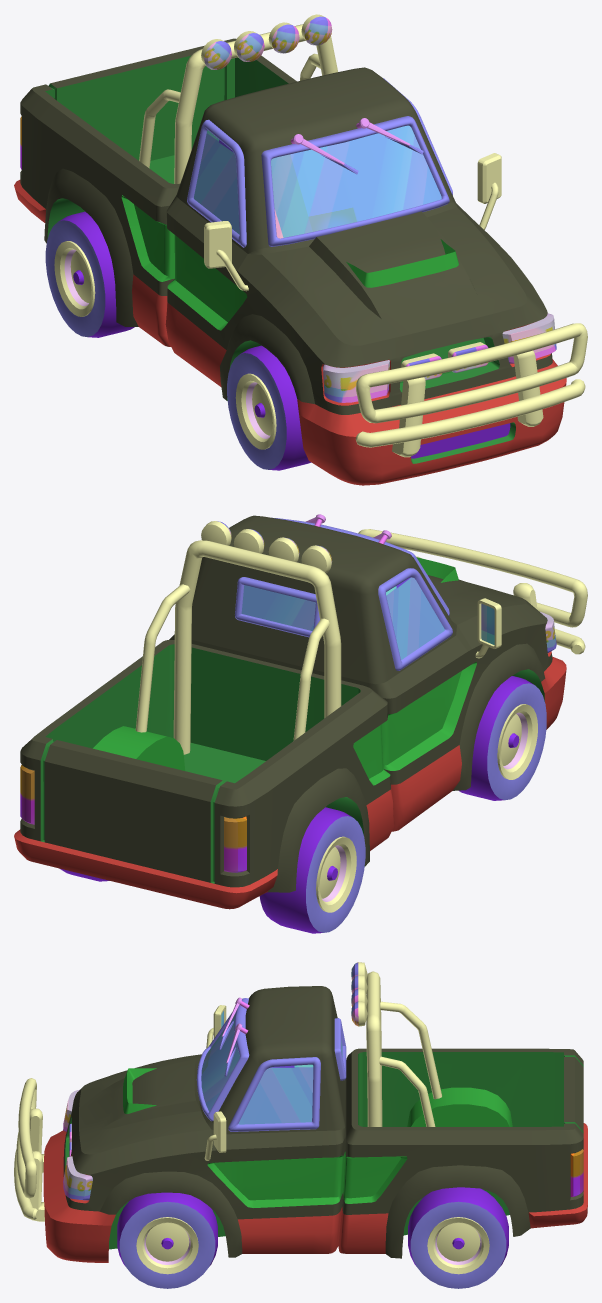
The model's file is Pickup_0_GRP.fbx.
3 renders of one model, top to bottom at view 1: azimuth 30°, elevation 25°; view 2: azimuth 150°, elevation 25°; view 3: azimuth 270°, elevation 25°, orthographic. The views are drawn at different scales.
Parts seen in each view (by area): view 1: Pickup_0_mesh, Pickup_0_Wheel_FR_mesh, Pickup_0_Wheel_BR_mesh; view 2: Pickup_0_mesh, Pickup_0_Wheel_BR_mesh, Pickup_0_Wheel_FR_mesh; view 3: Pickup_0_mesh, Pickup_0_Wheel_BL_mesh, Pickup_0_Wheel_FL_mesh.
Boxes of the visible parts, box(x1,y1,x2,y2) form: Pickup_0_mesh: box(14, 14, 587, 485); Pickup_0_Wheel_FR_mesh: box(227, 345, 311, 470); Pickup_0_Wheel_BR_mesh: box(45, 211, 134, 337); Pickup_0_mesh: box(14, 514, 587, 909); Pickup_0_Wheel_BR_mesh: box(259, 807, 365, 933); Pickup_0_Wheel_FR_mesh: box(459, 676, 546, 800); Pickup_0_mesh: box(14, 962, 587, 1262); Pickup_0_Wheel_BL_mesh: box(408, 1187, 508, 1288); Pickup_0_Wheel_FL_mesh: box(117, 1192, 217, 1288).
Size of the model in its own units: 1.49 by 1.54 by 3.12.
